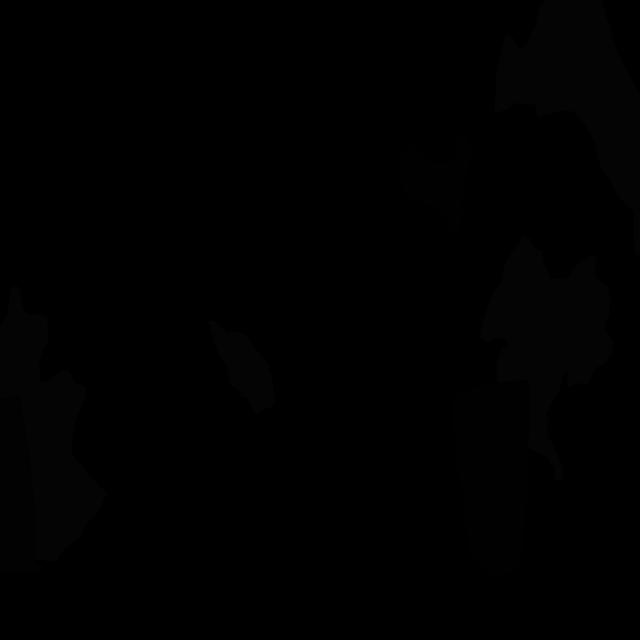cardboard: (0, 397, 44, 573)
rigid_plastic: (451, 381, 531, 575), (400, 133, 472, 233)
soft_plastic: (494, 0, 640, 258), (480, 236, 614, 480), (0, 286, 107, 561), (207, 320, 275, 415)
